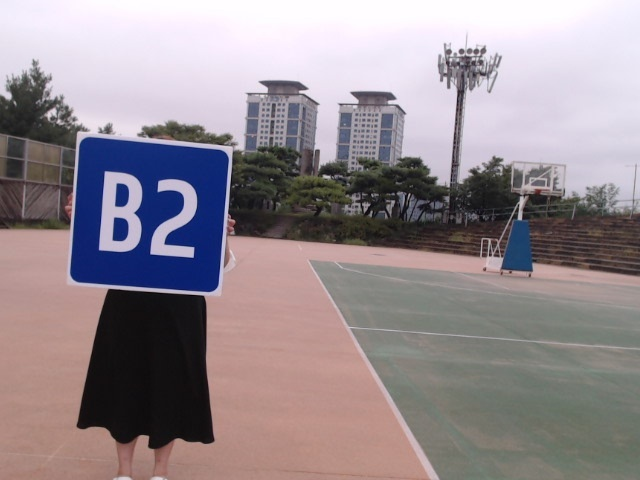delivery_b2: (66, 136, 229, 294)
